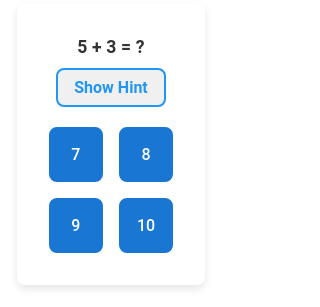
Scenario: QuestionCard › disables all buttons after selection
The width and height of the screenshot is (320, 307).
Click the button "7" at (76, 154), box [49,127,103,182]
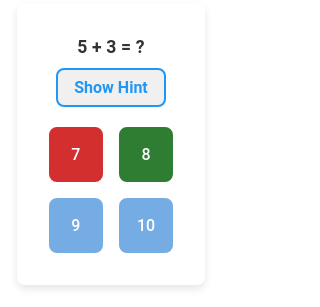
Now the button "7" is disabled, box [49,127,103,182]
Now the button "8" is disabled, box [119,127,173,182]
Now the button "9" is disabled, box [49,198,103,253]
